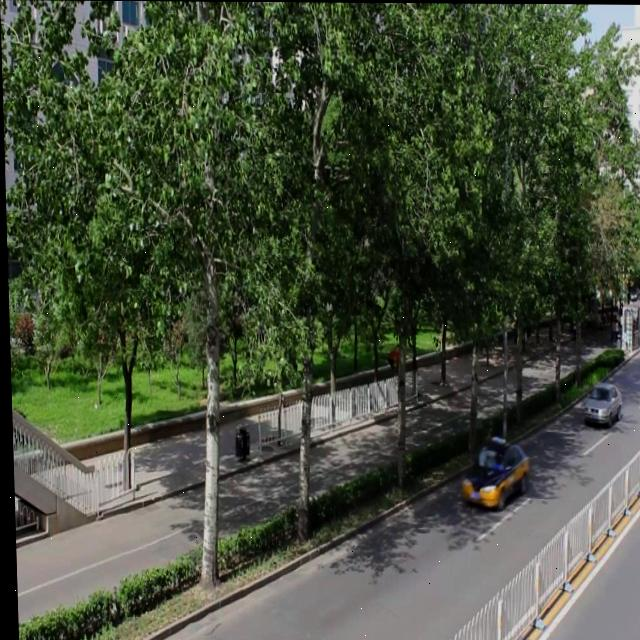car: (457, 439, 524, 507), (580, 379, 617, 426)
